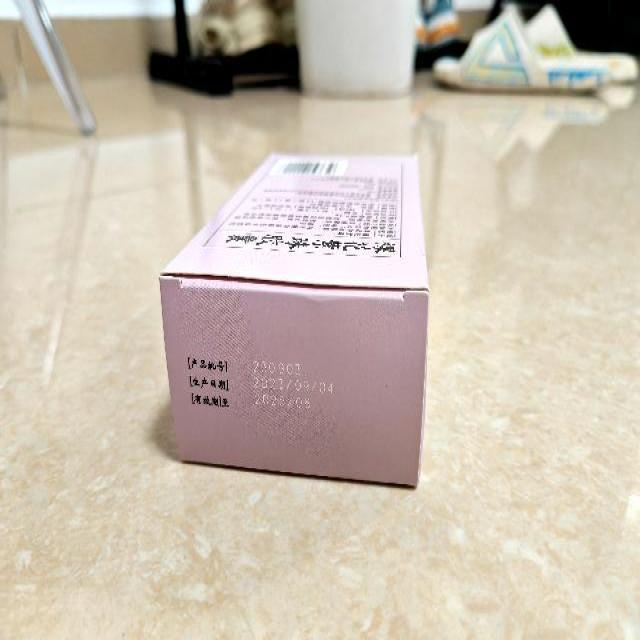box: (159, 152, 429, 490)
